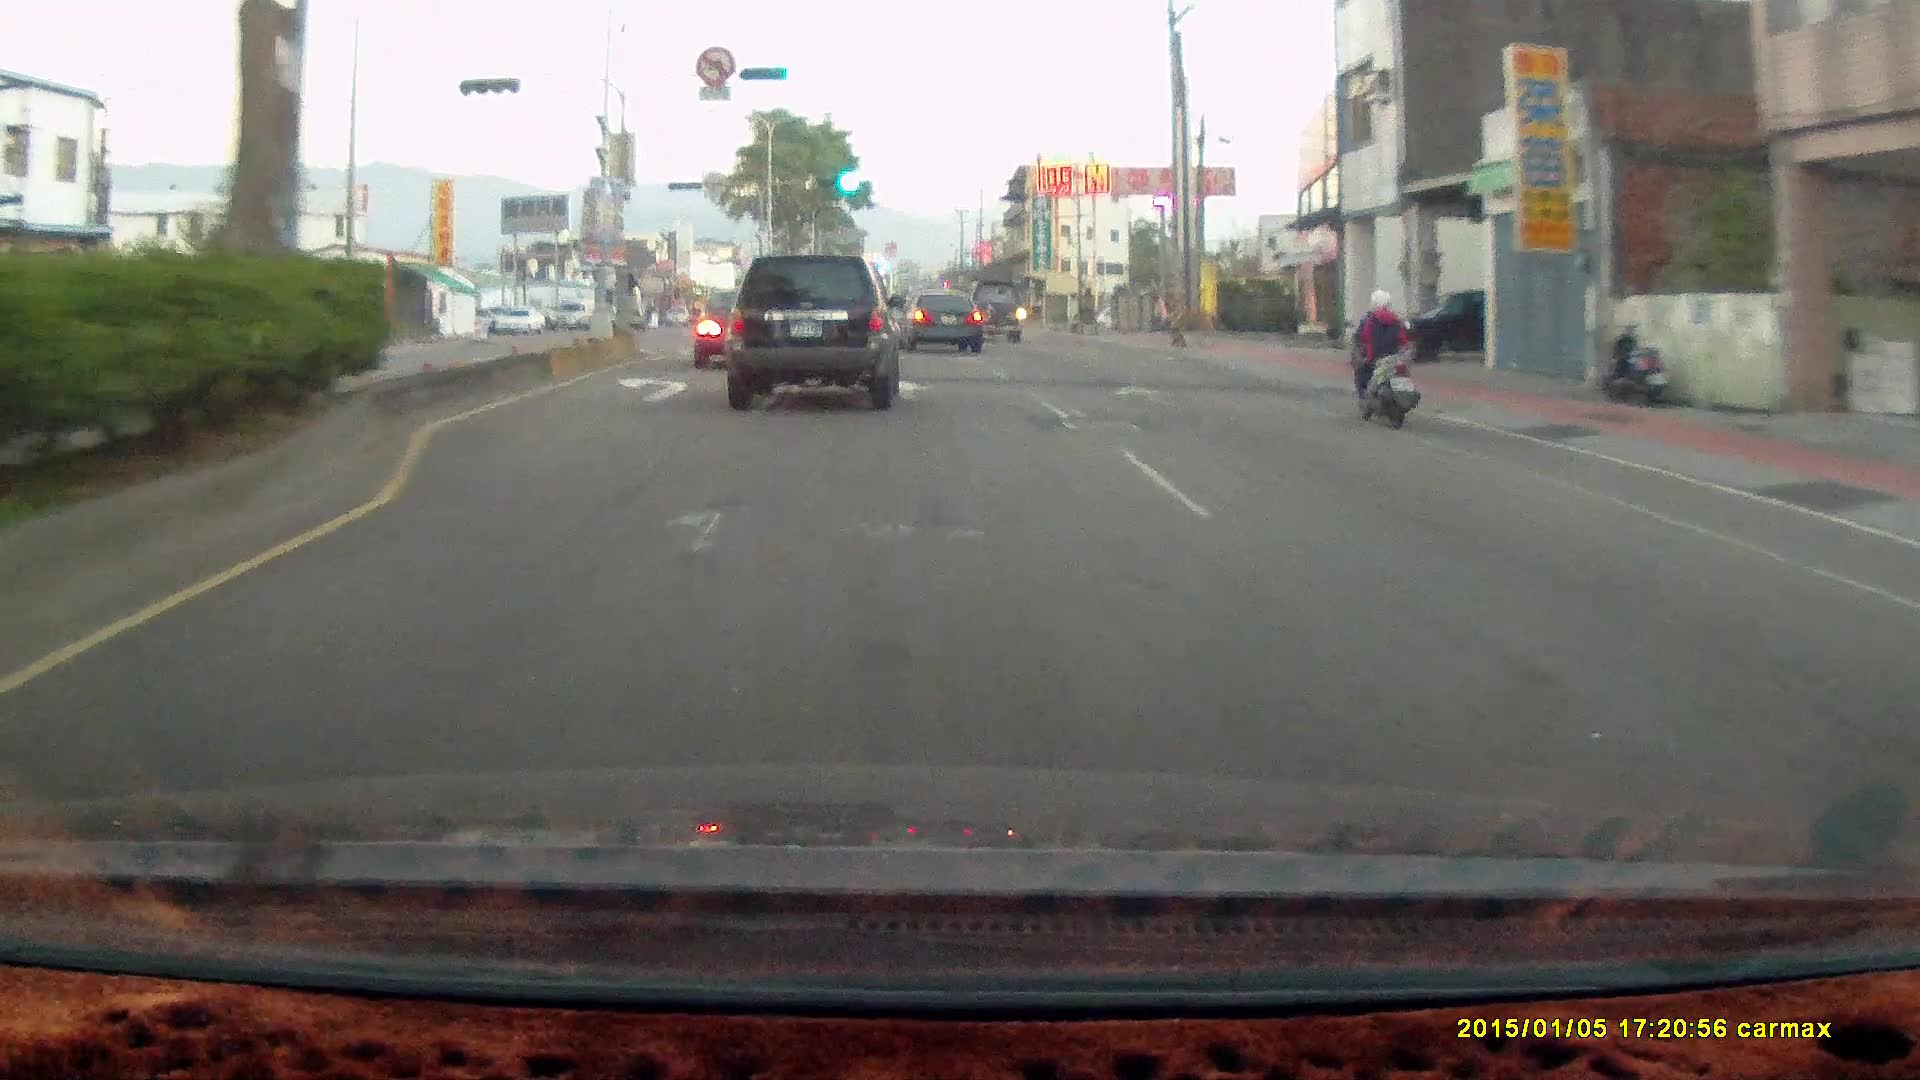rider: (1333, 279, 1433, 438), (1341, 285, 1419, 427)
vehicle: (718, 254, 903, 422), (722, 254, 905, 410), (1371, 287, 1550, 368), (1372, 287, 1498, 369), (692, 290, 802, 375), (690, 290, 797, 370), (904, 292, 985, 359), (899, 290, 983, 353), (958, 282, 1022, 349), (961, 282, 1024, 346), (491, 306, 545, 335), (548, 301, 598, 329)
